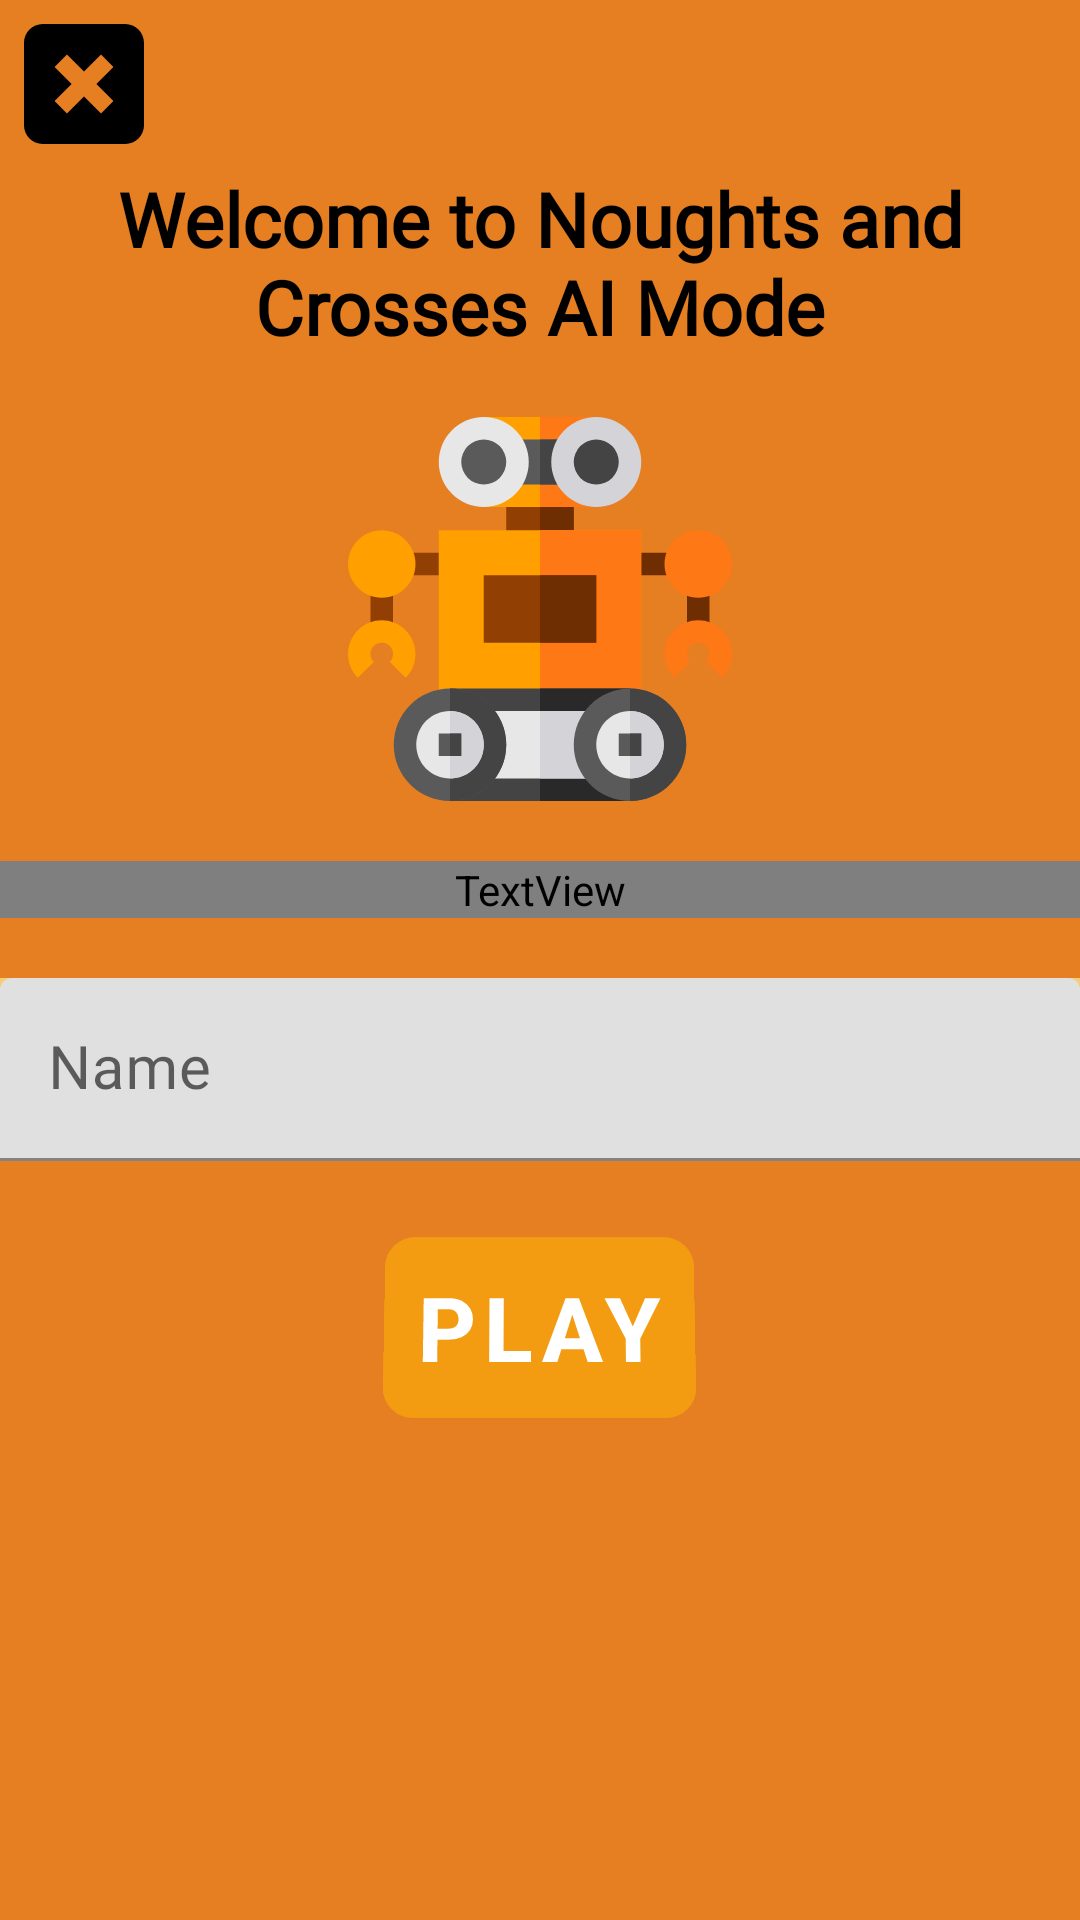

Locate icon controls on the screen. Image size 1080x1920, boxes as bbox(x1, y1, x2, y2).
croissit: bbox(24, 24, 144, 144)
